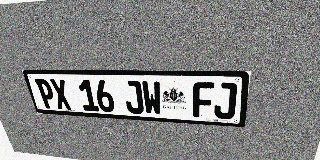1: (76, 80, 99, 111)
6: (93, 80, 116, 112)
F: (193, 82, 214, 118)
J: (214, 82, 237, 119), (122, 80, 144, 114)
P: (34, 79, 58, 109)
W: (141, 81, 162, 115)
X: (49, 79, 72, 110)
